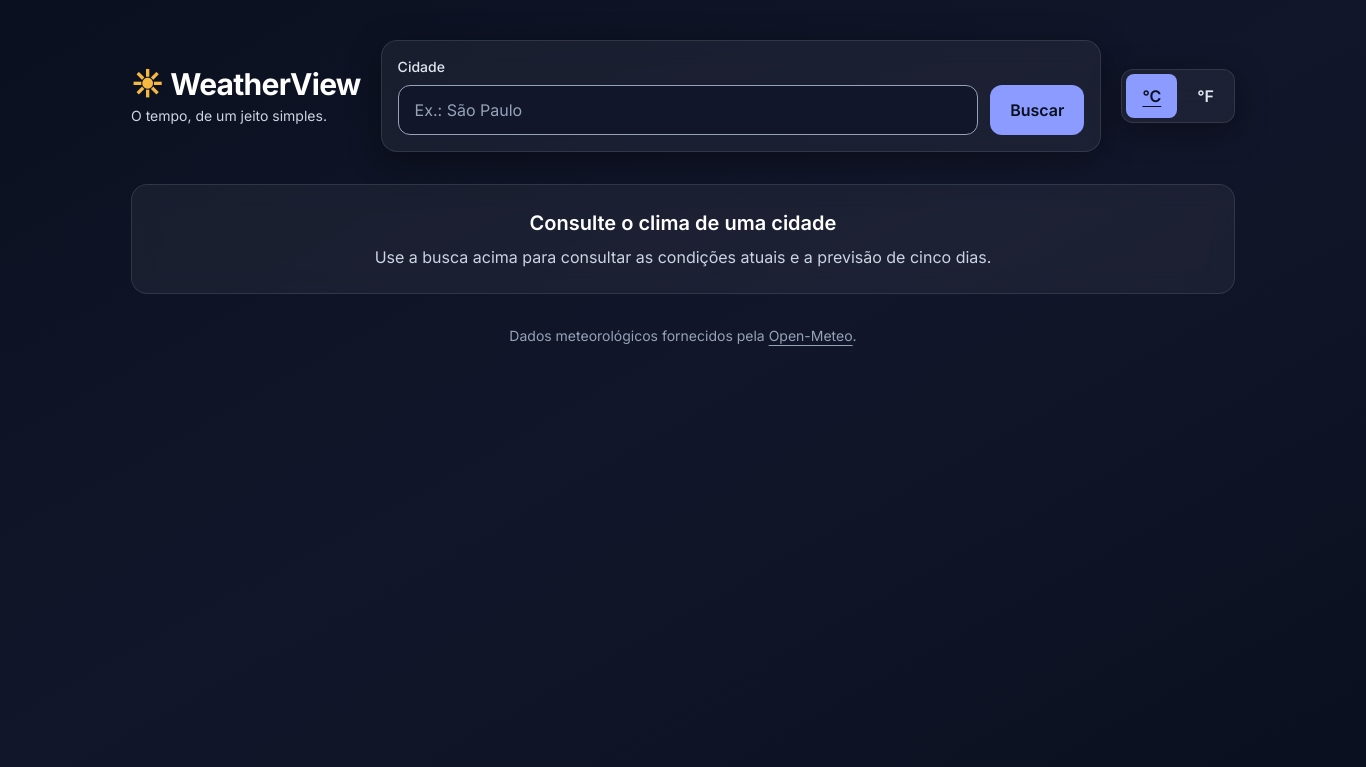
Scenario: App › mantém métricas válidas e marca campos ausentes como indisponíveis
Type "Salvador" into the search field labelled "Cidade". click: [688, 110]
box: x1=398 y1=85 x2=978 y2=135
Then press Enter
(page scrolled)
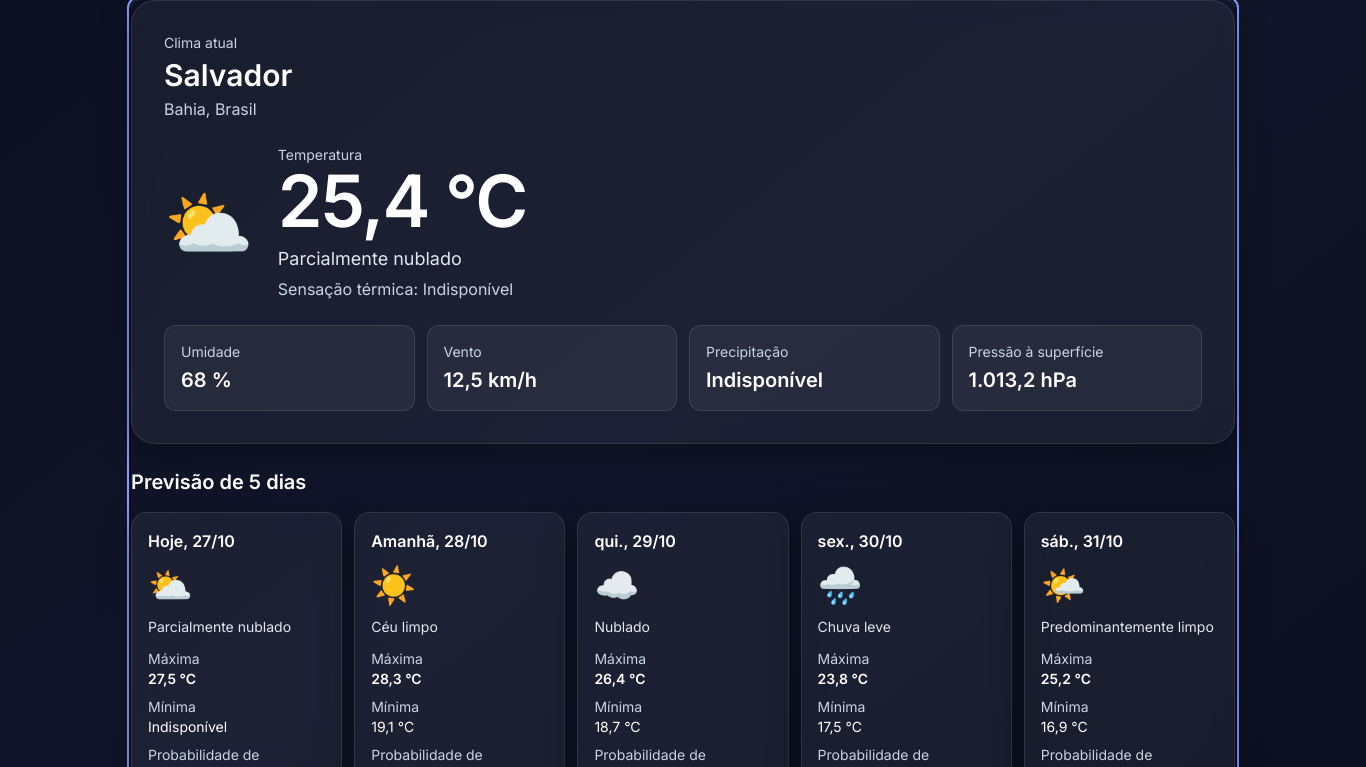
Result: the text "25,4 °C" is shown at x1=278 y1=165 x2=526 y2=237
Result: the text "Sensação térmica: Indisponível" is shown at x1=278 y1=277 x2=526 y2=301
Result: the text "68 %" is shown at x1=181 y1=368 x2=232 y2=392
